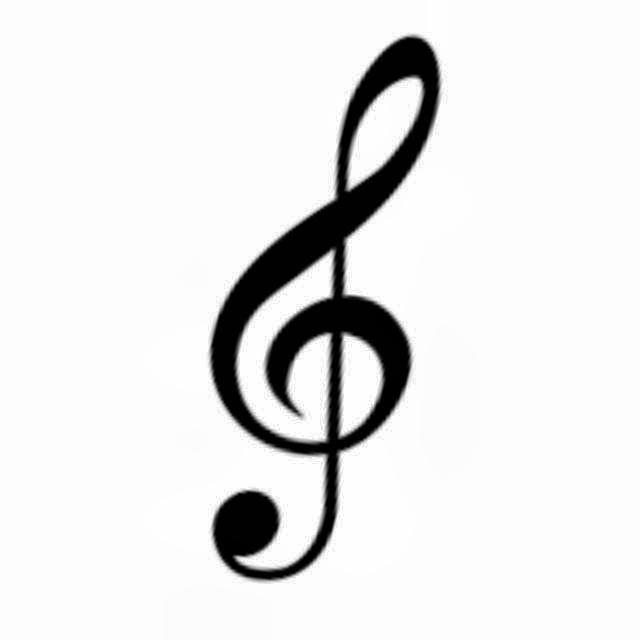Treble-clef: (187, 32, 466, 584)
